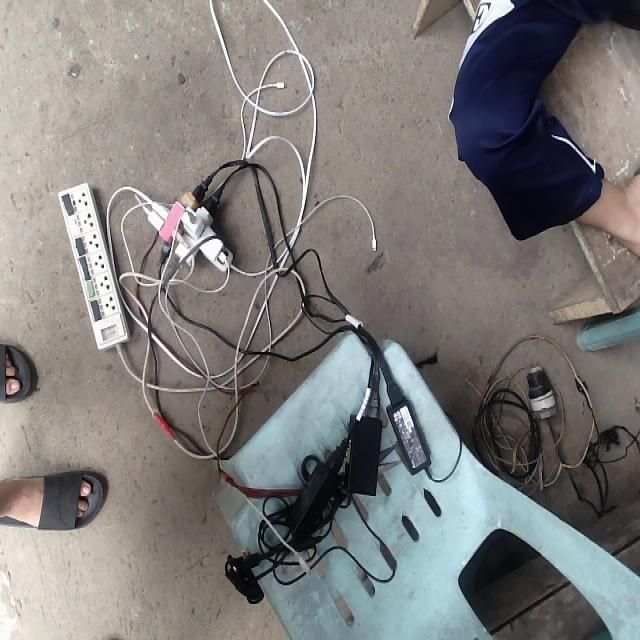-: (144, 171, 232, 272)
